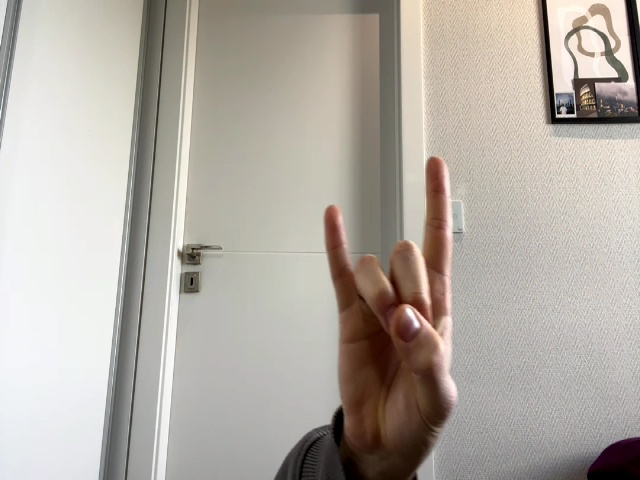Y: (325, 157, 458, 444)
